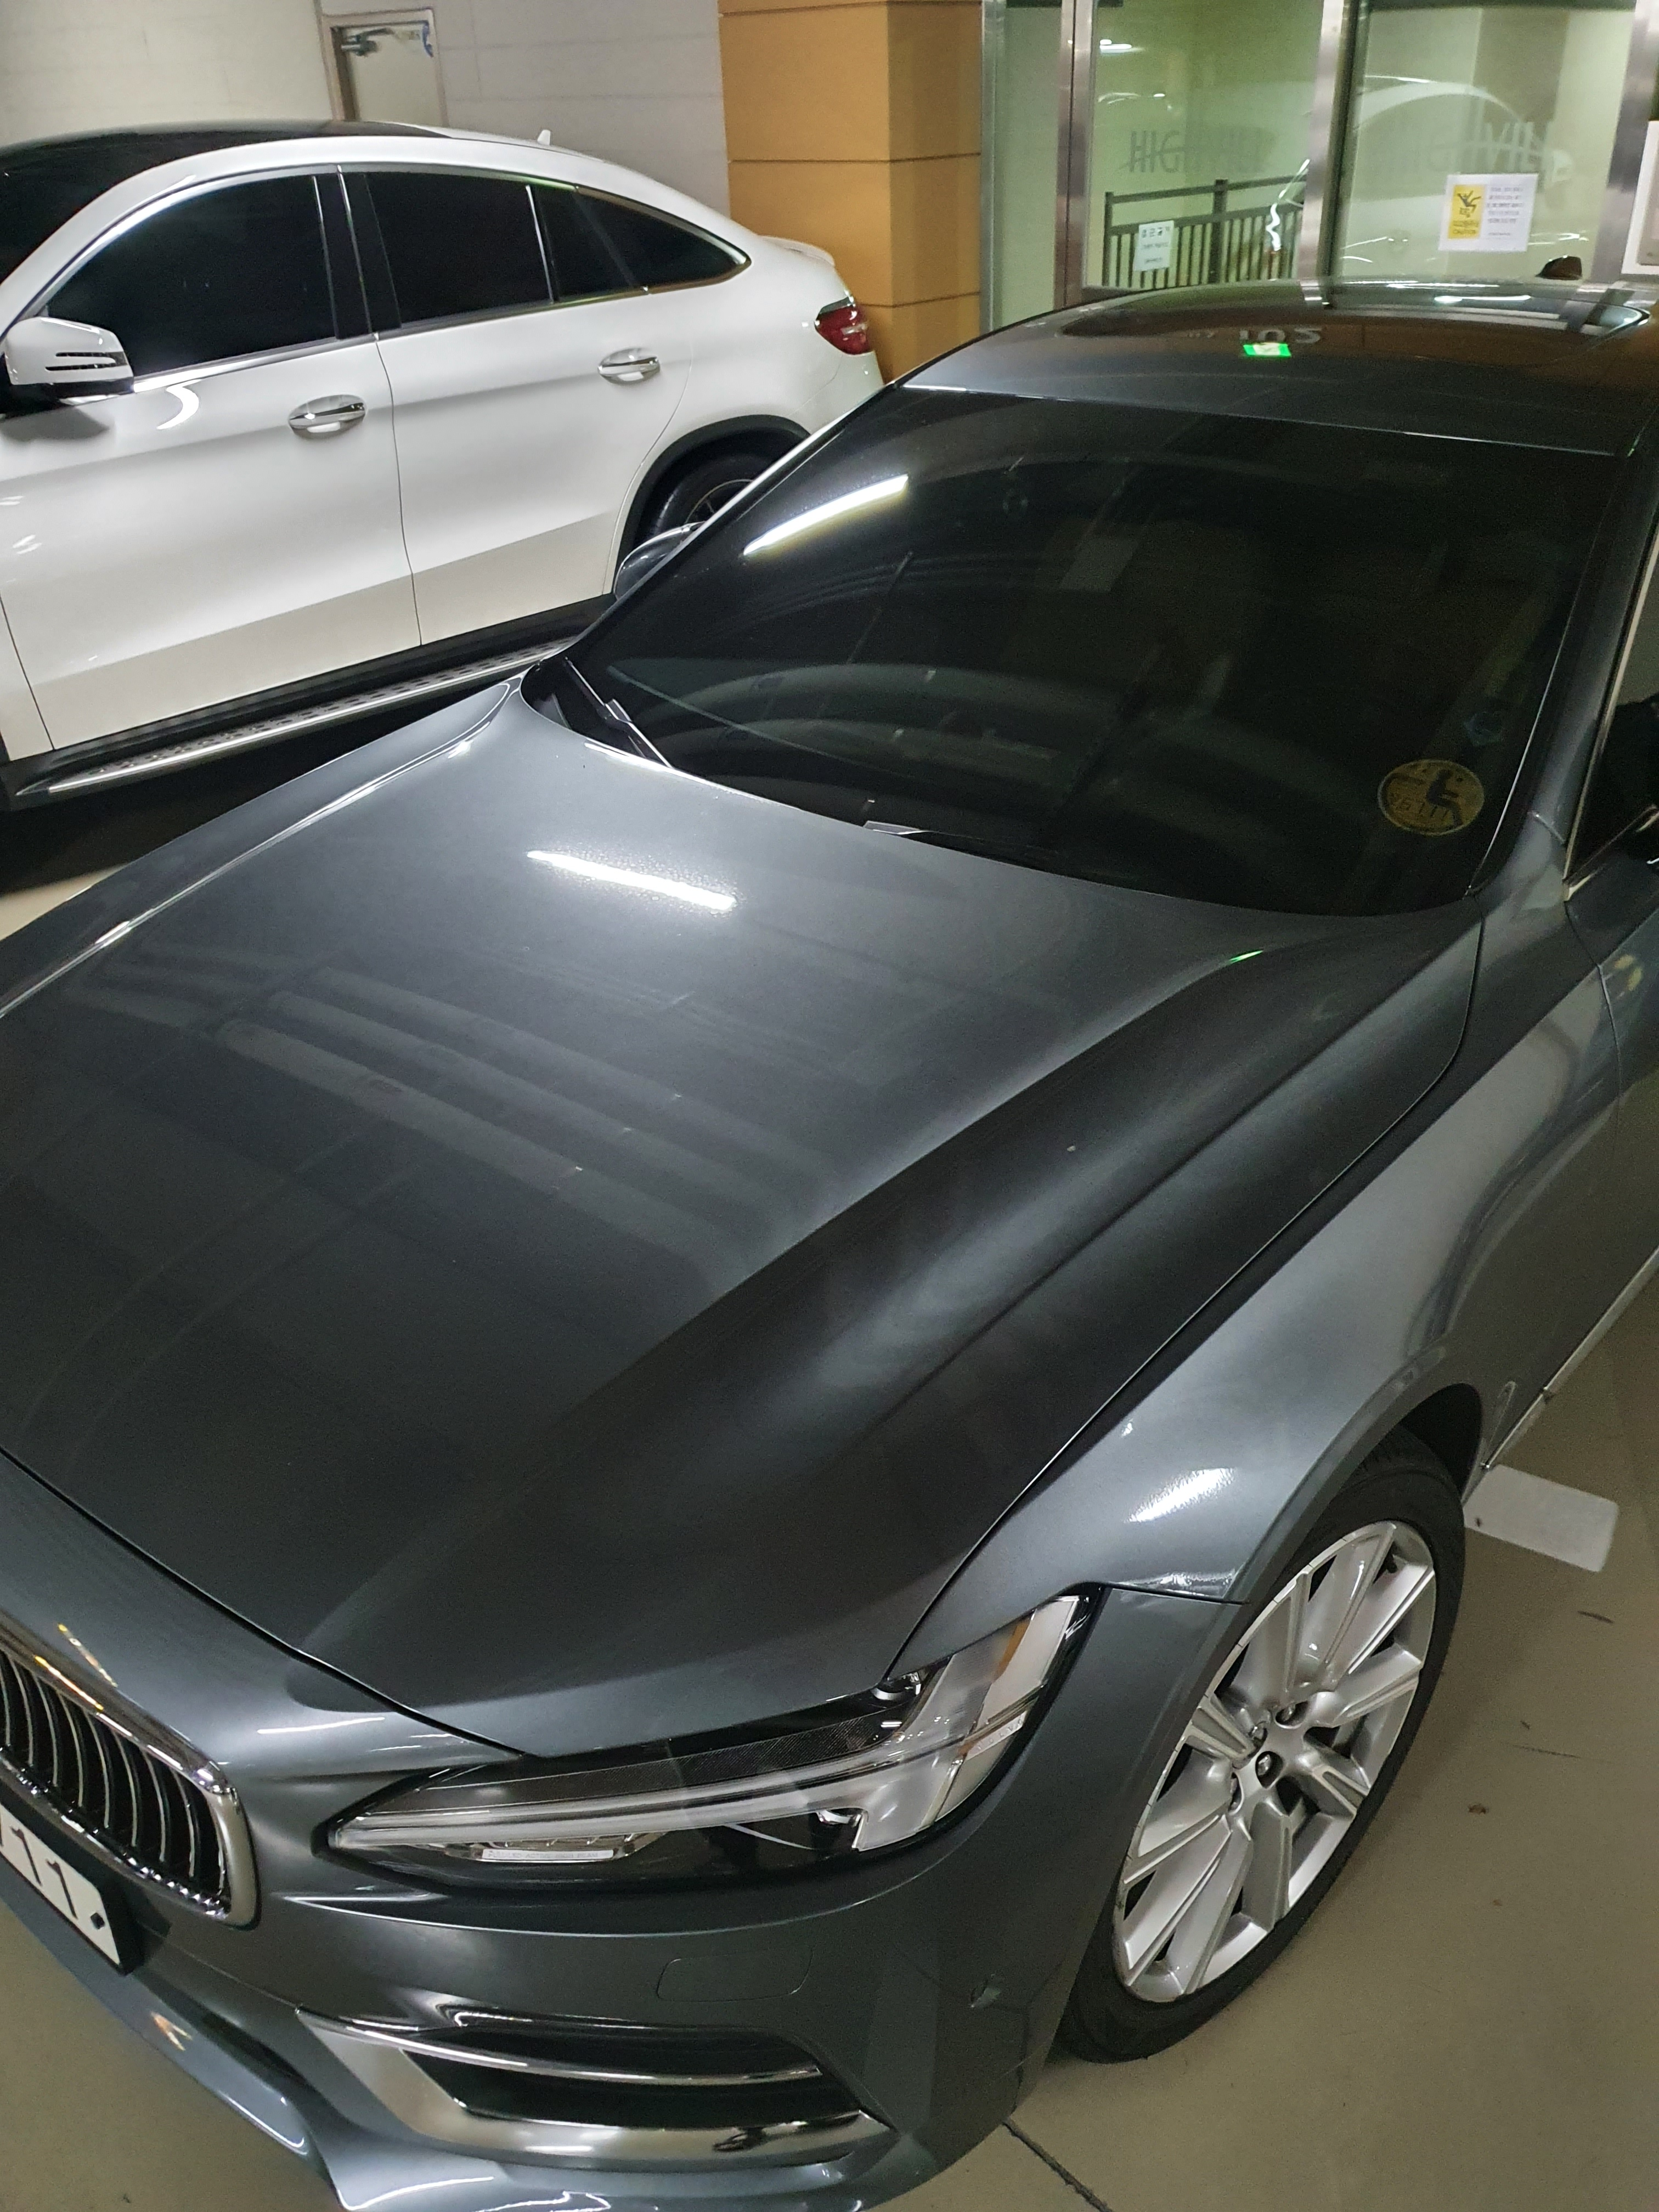disabled_parking: (1373, 744, 1500, 855)
